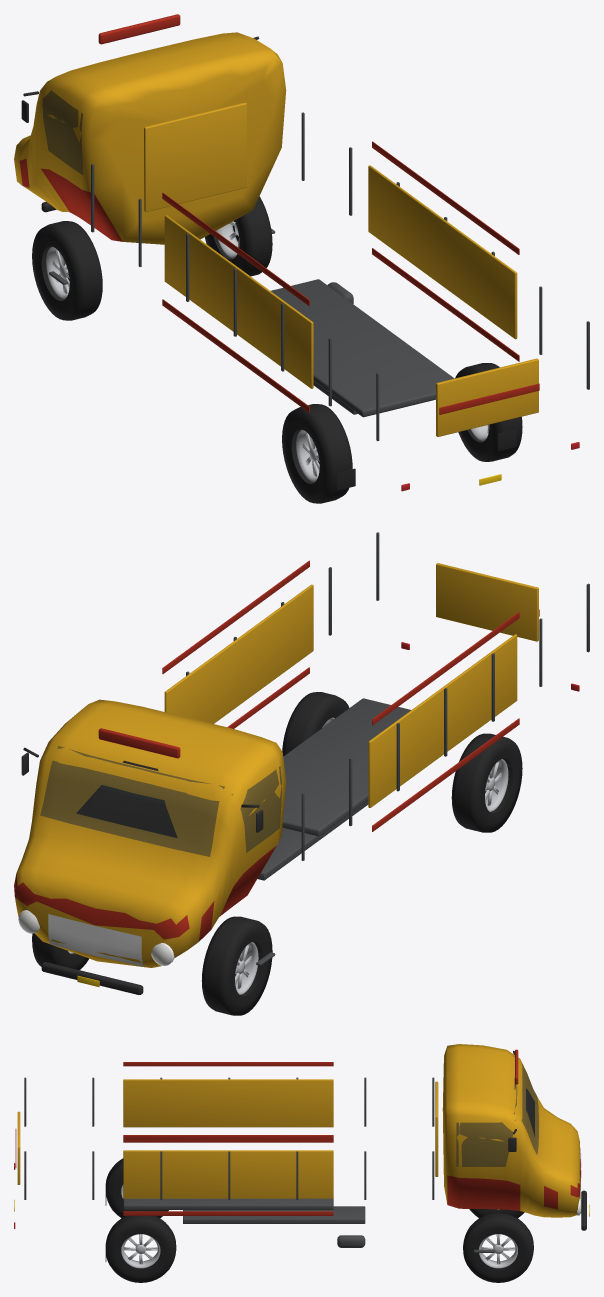
File: lorry_1.glb
The picture shows the model from 3 angles, top to bottom: view 1: azimuth 30°, elevation 25°; view 2: azimuth 150°, elevation 25°; view 3: azimuth 270°, elevation 25°; orthographic projection. The views are drawn at different scales.
Parts seen in each view (by area): view 1: body, wheel_0, wheel_2, wheel_1, wheel_3; view 2: body, wheel_0, wheel_2, wheel_3, wheel_1; view 3: body, wheel_1, wheel_3, wheel_2.
Boxes of the visible parts, bbox=[...] form: body: bbox=[14, 14, 589, 491]; wheel_0: bbox=[32, 221, 102, 320]; wheel_2: bbox=[282, 404, 352, 503]; wheel_1: bbox=[204, 196, 272, 276]; wheel_3: bbox=[455, 363, 522, 461]; body: bbox=[14, 532, 589, 994]; wheel_0: bbox=[201, 916, 272, 1015]; wheel_2: bbox=[451, 733, 522, 832]; wheel_3: bbox=[282, 692, 349, 756]; wheel_1: bbox=[32, 933, 88, 969]; body: bbox=[14, 1044, 589, 1261]; wheel_1: bbox=[463, 1213, 533, 1282]; wheel_3: bbox=[105, 1216, 176, 1282]; wheel_2: bbox=[105, 1158, 168, 1218].
Size of the model in its own units: 2.79 by 2.94 by 8.22.
